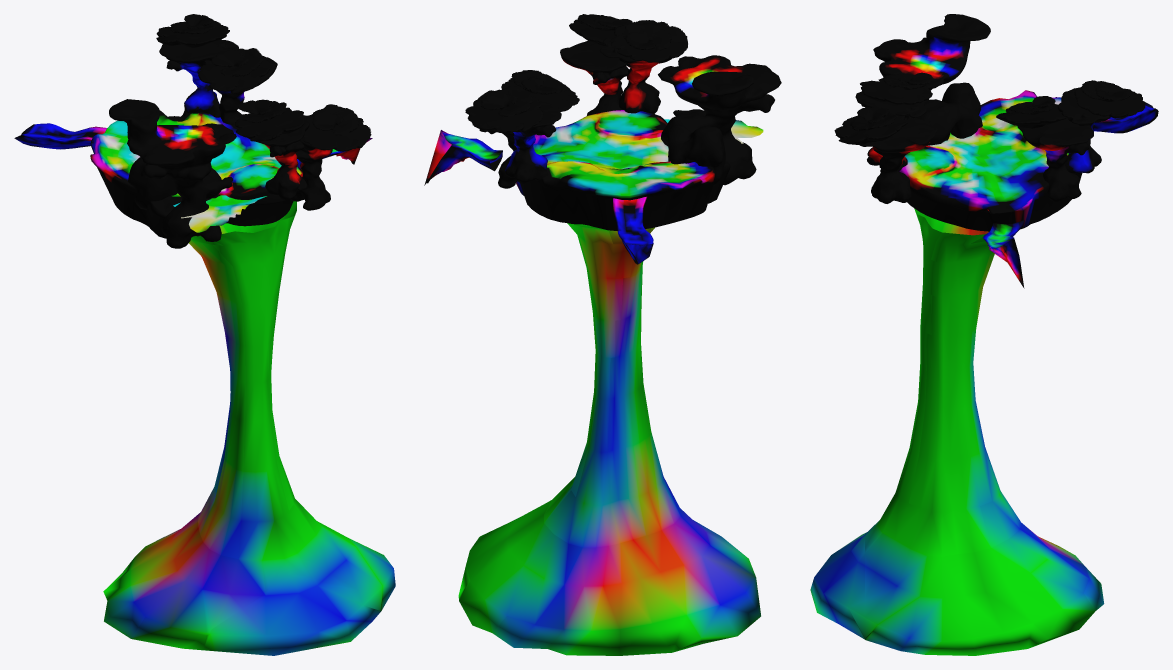
The model's file is A_Map.fbx.
The picture shows the model from 3 angles, left to right: view 1: azimuth 30°, elevation 25°; view 2: azimuth 150°, elevation 25°; view 3: azimuth 270°, elevation 25°; orthographic projection. The views are drawn at different scales.
Visible parts, largest first — view 1: LOD0_G0_I0_st103_A; view 2: LOD0_G0_I0_st103_A; view 3: LOD0_G0_I0_st103_A.
Part boxes in pixels (<box>): LOD0_G0_I0_st103_A: <box>14,14,395,655</box>; LOD0_G0_I0_st103_A: <box>424,14,781,655</box>; LOD0_G0_I0_st103_A: <box>810,14,1158,655</box>.
Size of the model in its own units: 18090 by 16717 by 30185.
